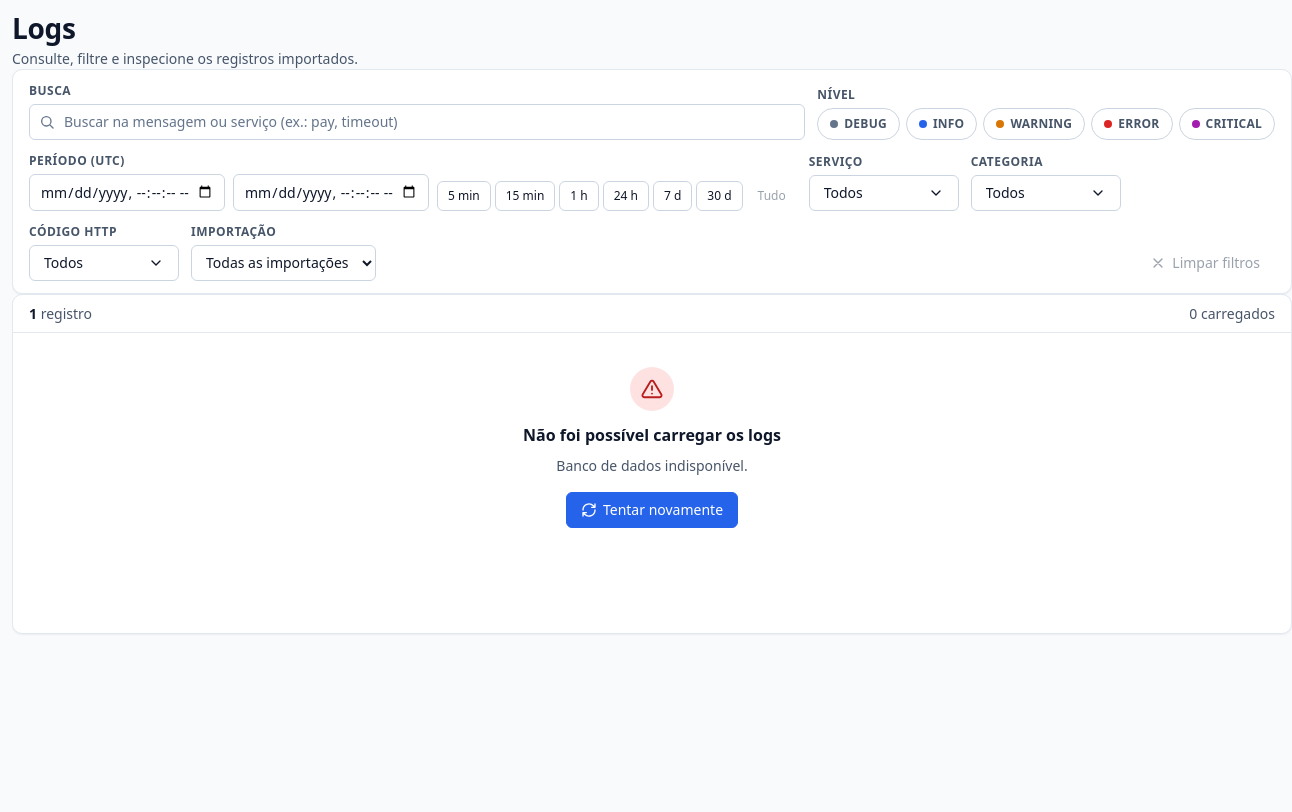
it: LogsPage › shows the API error and retries
The width and height of the screenshot is (1292, 812).
Expected: the message shows "Não foi possível carregar os logs", [523, 424, 781, 446]
Expected: the message shows "Banco de dados indisponível.", [556, 456, 748, 475]
Click the button "Tentar novamente": click(652, 510) [566, 492, 738, 528]
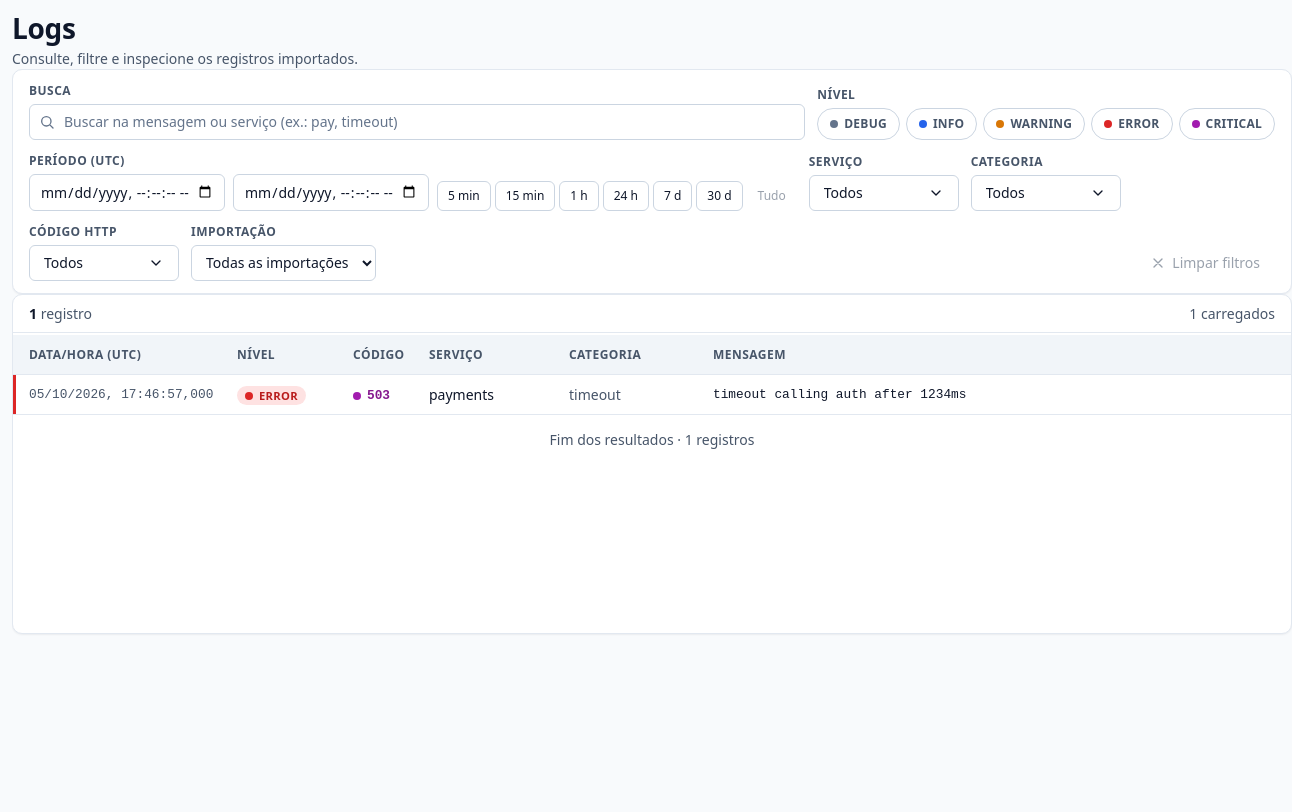
Now the text "Fim dos resultados · 1 registros" is shown, box [550, 429, 754, 448]
Now the message "Não foi possível carregar os logs Banco de dados indisponível. Tentar novamente" is gone
Now the table named "Registros de log" is shown, box [13, 335, 1291, 448]
